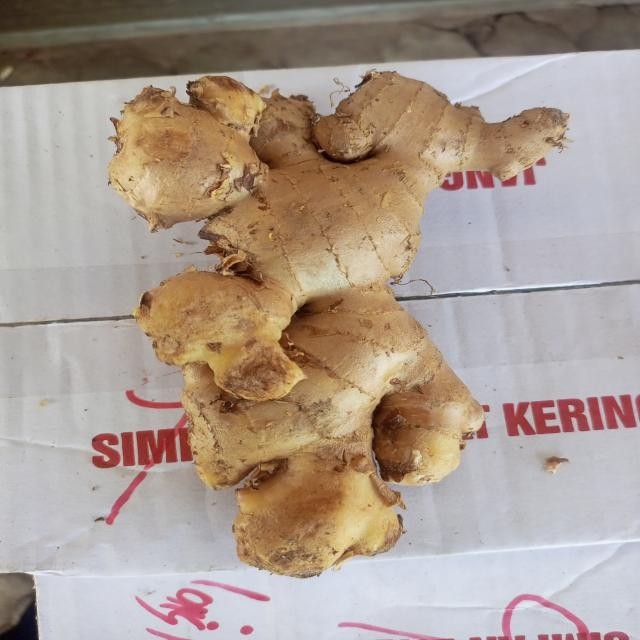ginger: (123, 71, 536, 563)
